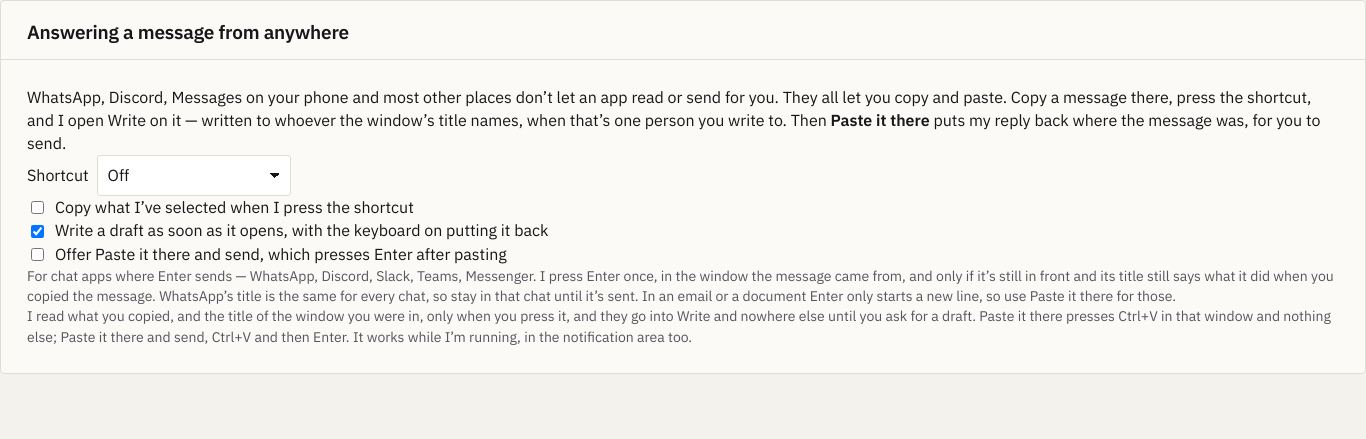
it: answering a message from anywhere › says so when another app already has the shortcut
Step 1. Select "Ctrl+Shift+Alt+R" in the dropdown labelled "Shortcut" → x=194, y=176, box x1=97 y1=155 x2=291 y2=196
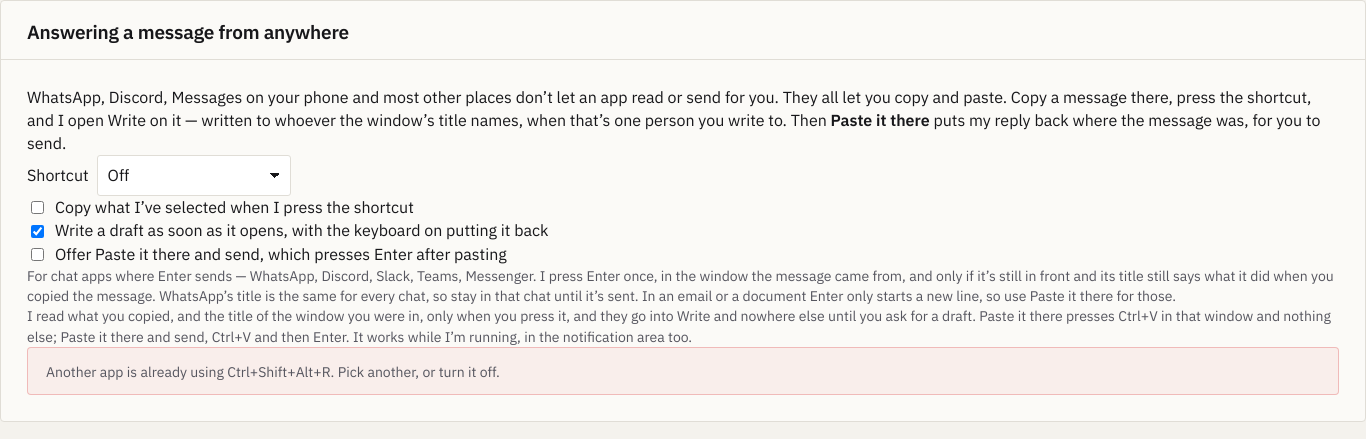
Result: the text "Another app is already using Ctrl+Shift+Alt+R. Pick another, or turn it off." is shown at x1=46 y1=362 x2=500 y2=382
